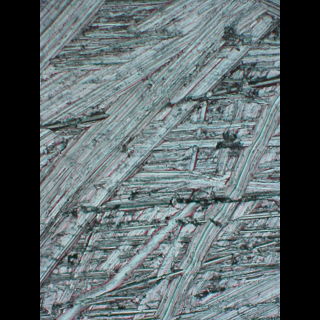d: (40, 0, 277, 317)
